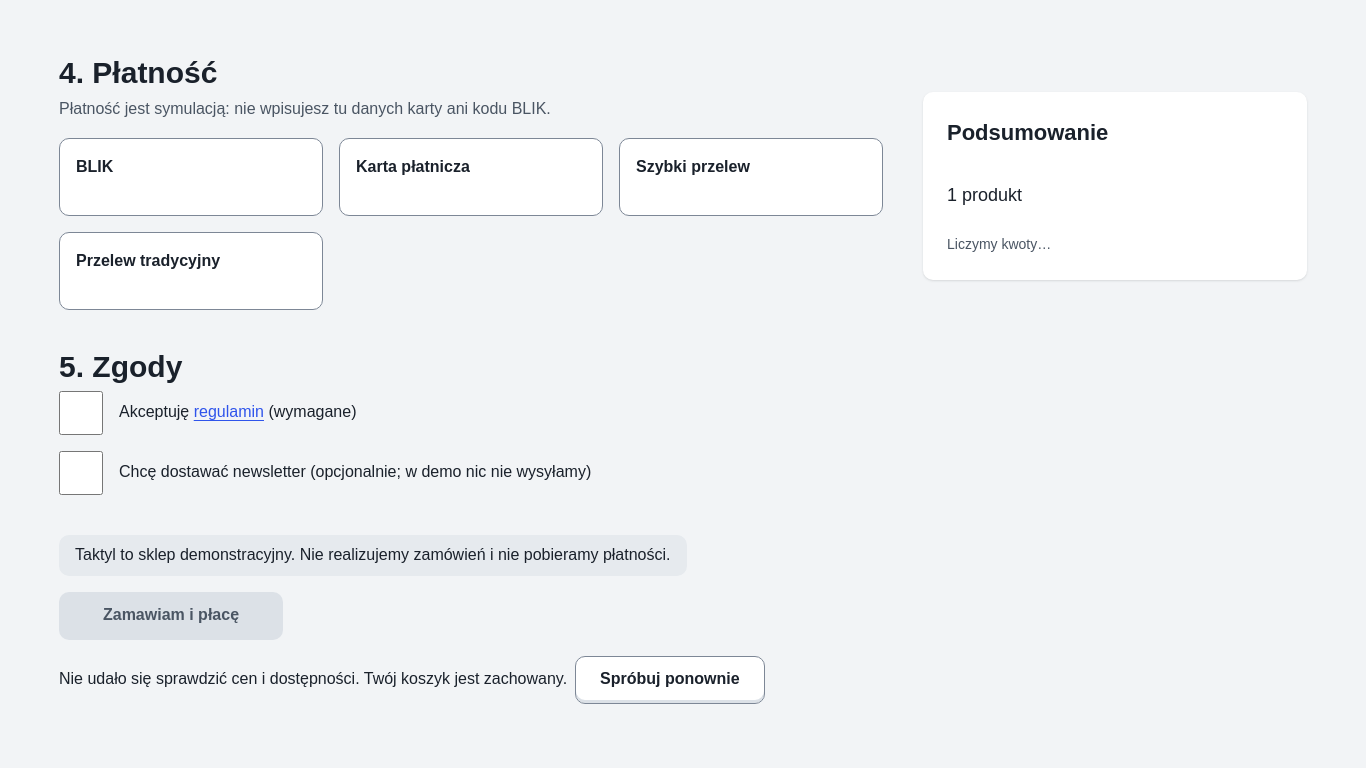
Test: TAKTYL-80: klikniecie przed wycena › blad wyceny: komunikat, wylaczony przycisk i 'Spróbuj ponownie' wznawia wycene
(page scrolled)
Expected: the message shows "Nie udało się sprawdzić cen", [59,670,567,687]
Expected: the button "Zamawiam i płacę" is disabled, [59,592,283,640]
Click the button "Spróbuj ponownie" at (670, 680), box [575,656,765,704]
(page scrolled)
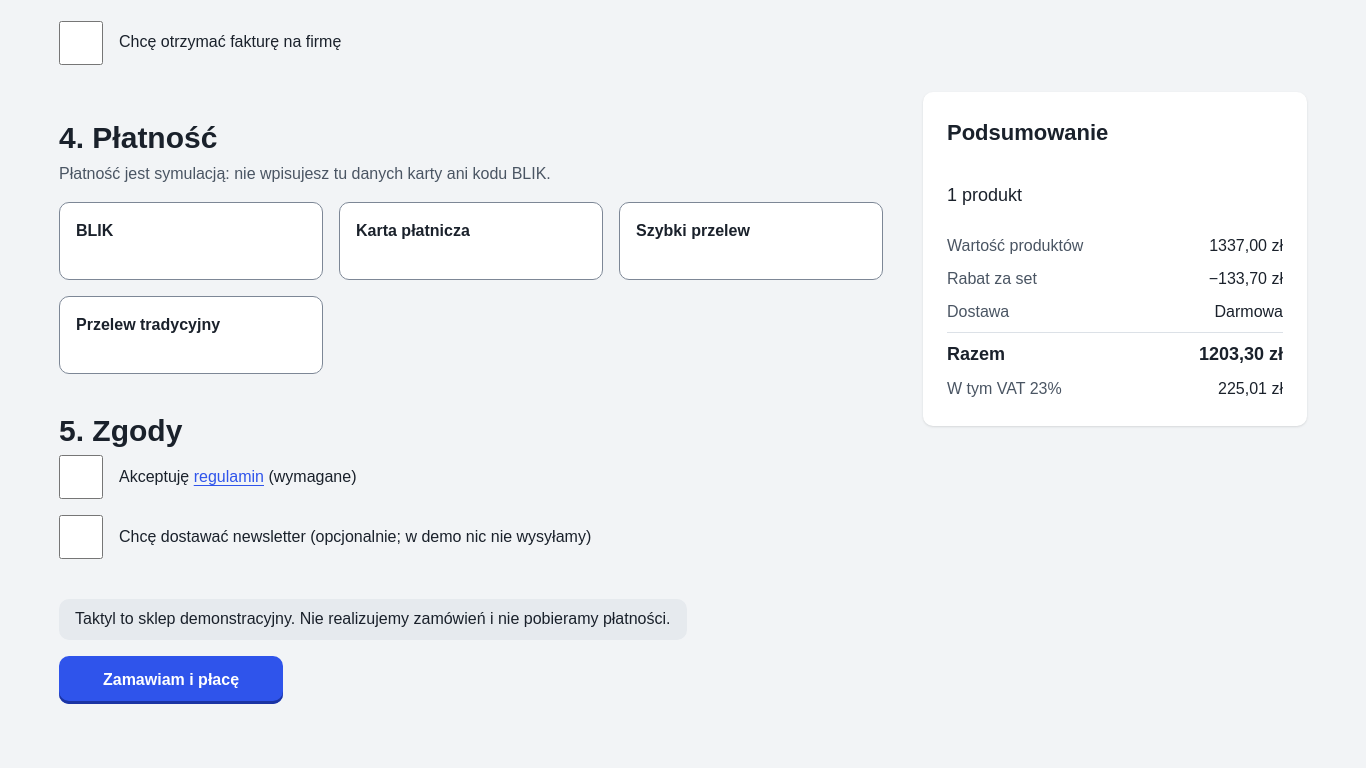
Expected: the button "Spróbuj ponownie" is gone
Expected: the button "Zamawiam i płacę" is enabled, [59,656,283,704]
